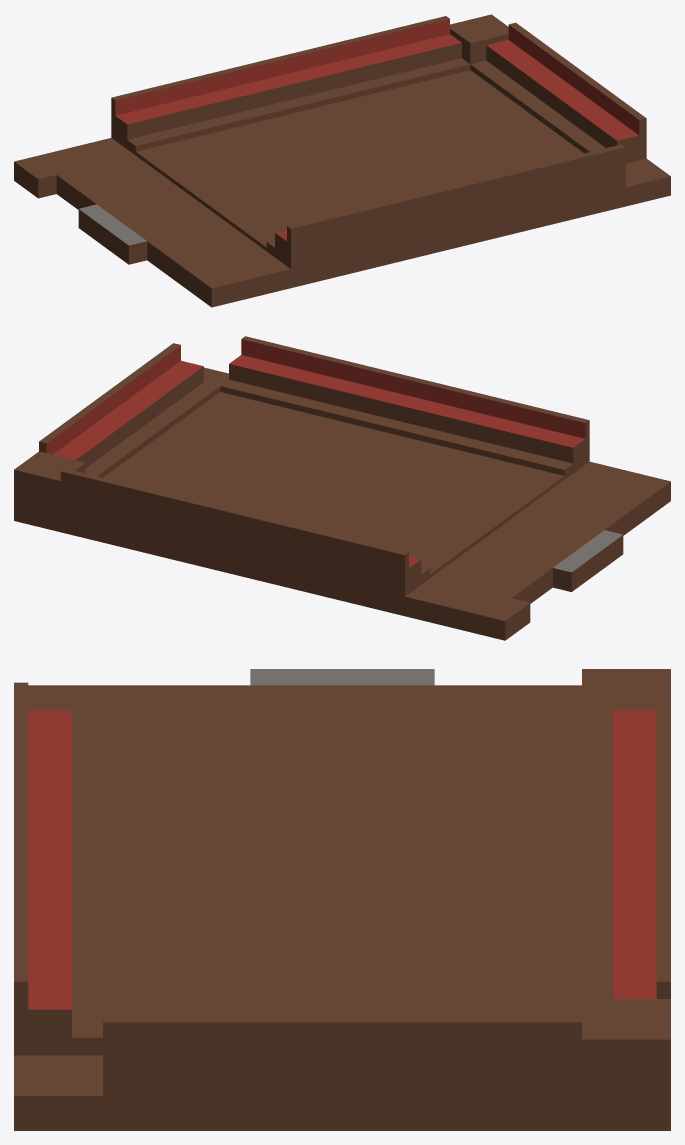
Rendered from GrandChambre_Sol.fbx.
3 views of the same model, one above another, from view 1: azimuth 30°, elevation 25°; view 2: azimuth 150°, elevation 25°; view 3: azimuth 270°, elevation 25° (orthographic). The views are drawn at different scales.
Parts seen in each view (by area): view 1: Sol; view 2: Sol; view 3: Sol.
Boxes of the visible parts, x1,y1,x2,y2 form: Sol: (14,14,670,307); Sol: (14,336,670,640); Sol: (14,669,670,1130).
Bounding box in the file's own units: 14.11 × 1.68 × 9.18.
